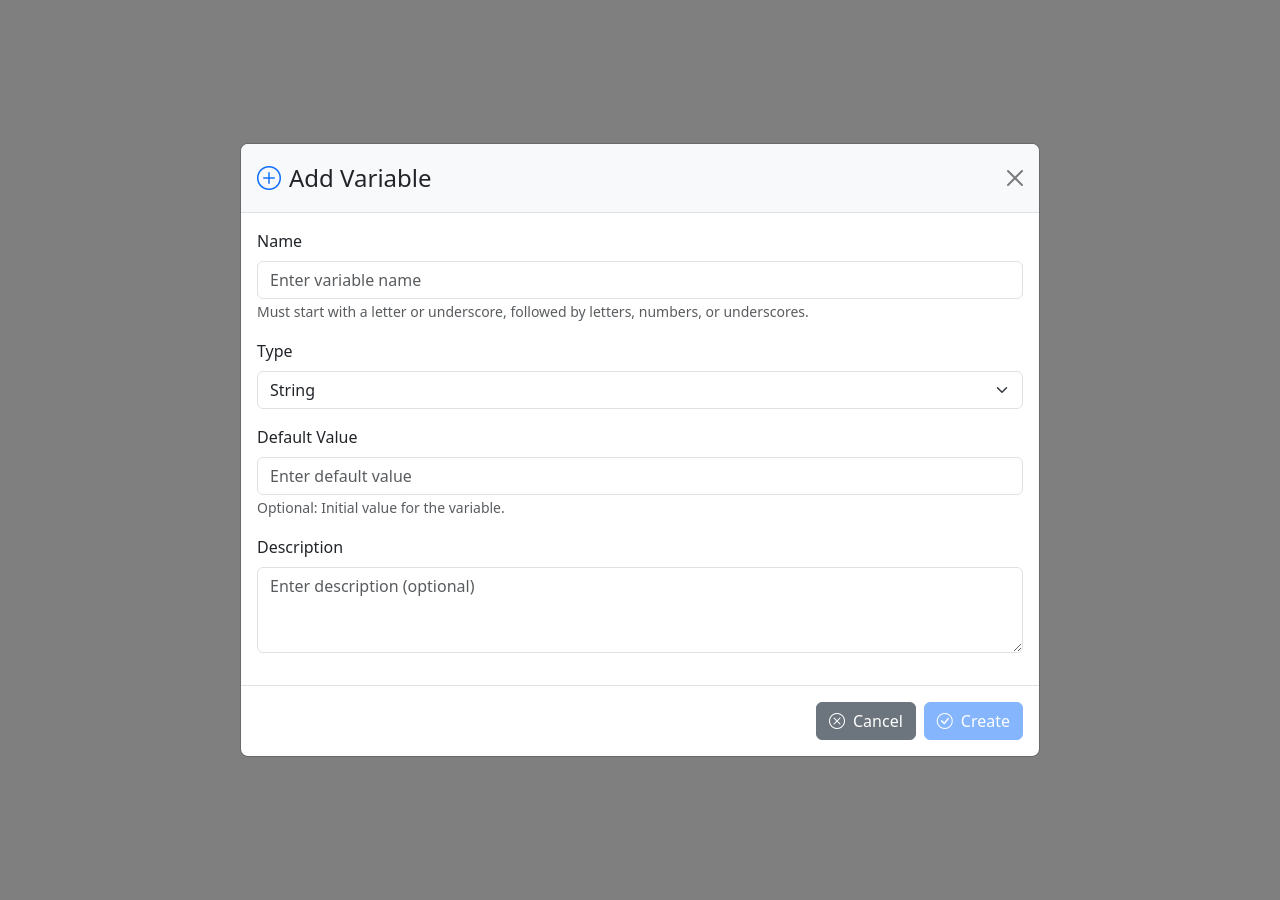
Scenario: VariableEditor › shows validation error for duplicate name
The image size is (1280, 900).
Step 1. Type "existingVar" into the field labelled "Name" → x=640, y=280, box [257,261,1023,299]
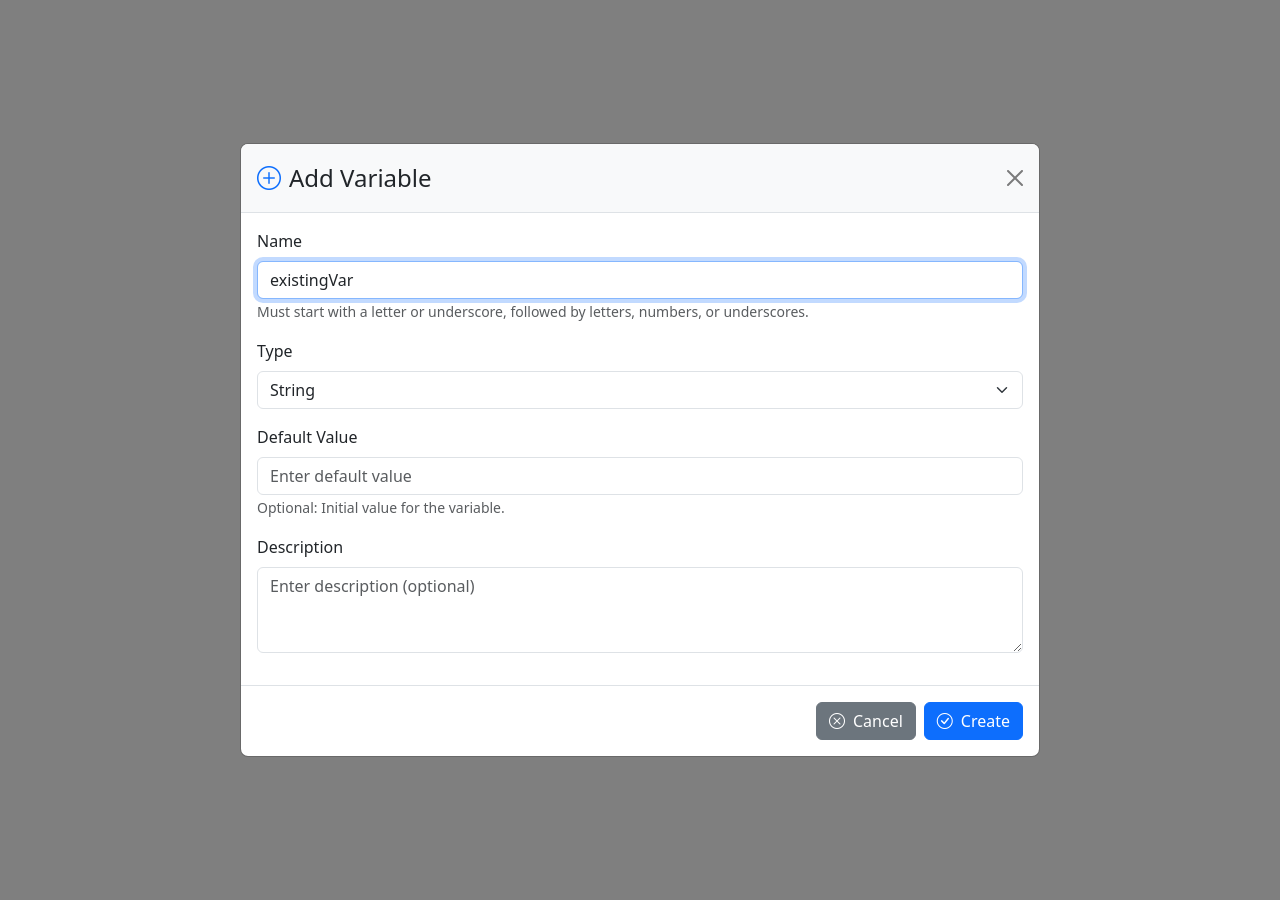
Note: UnifiedModal uses "Create" button in add mode
Step 2. Click the button "Create" → x=973, y=721, box [924,702,1023,740]
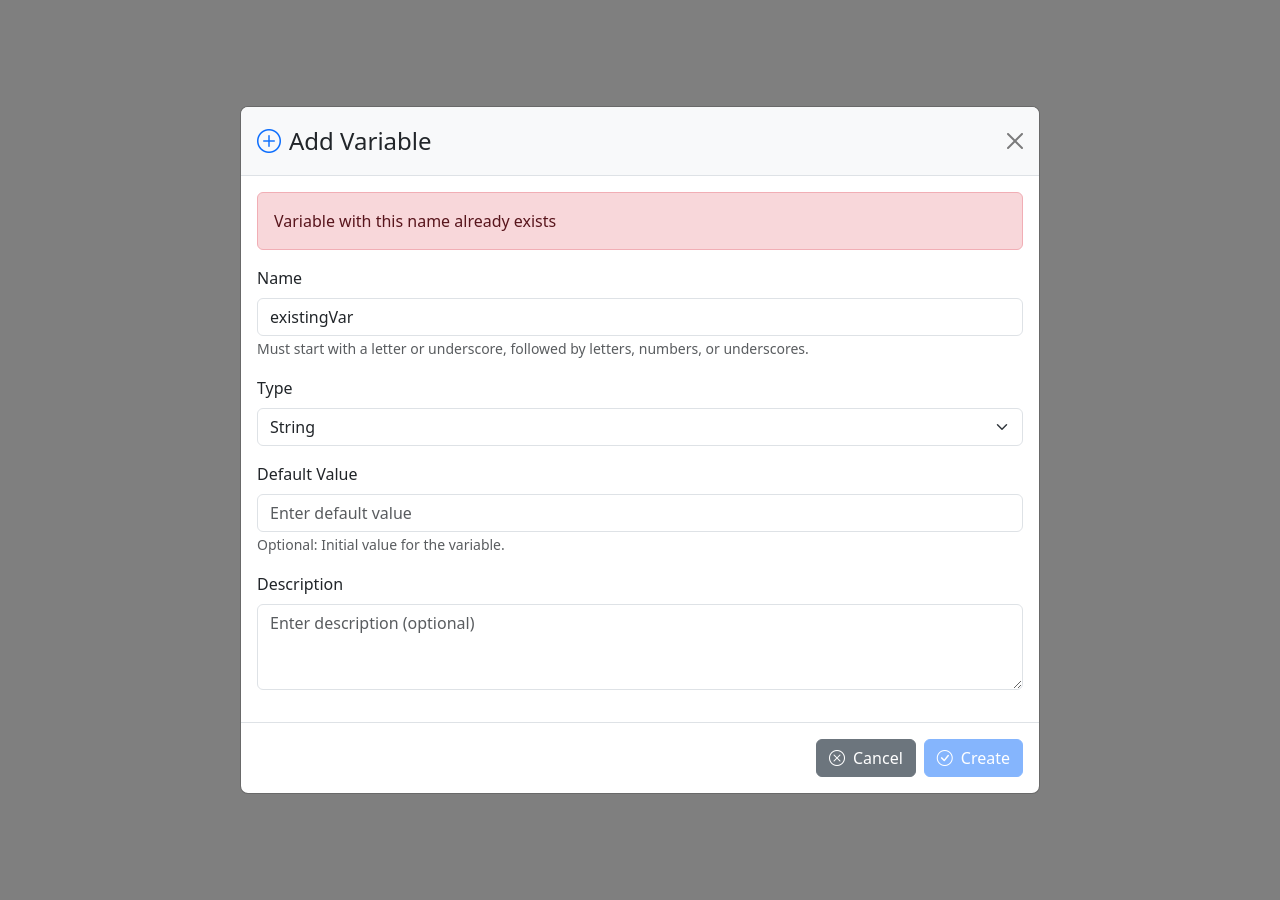
expect the text "Variable with this name already exists" is shown: met, box [257,192,1023,250]
